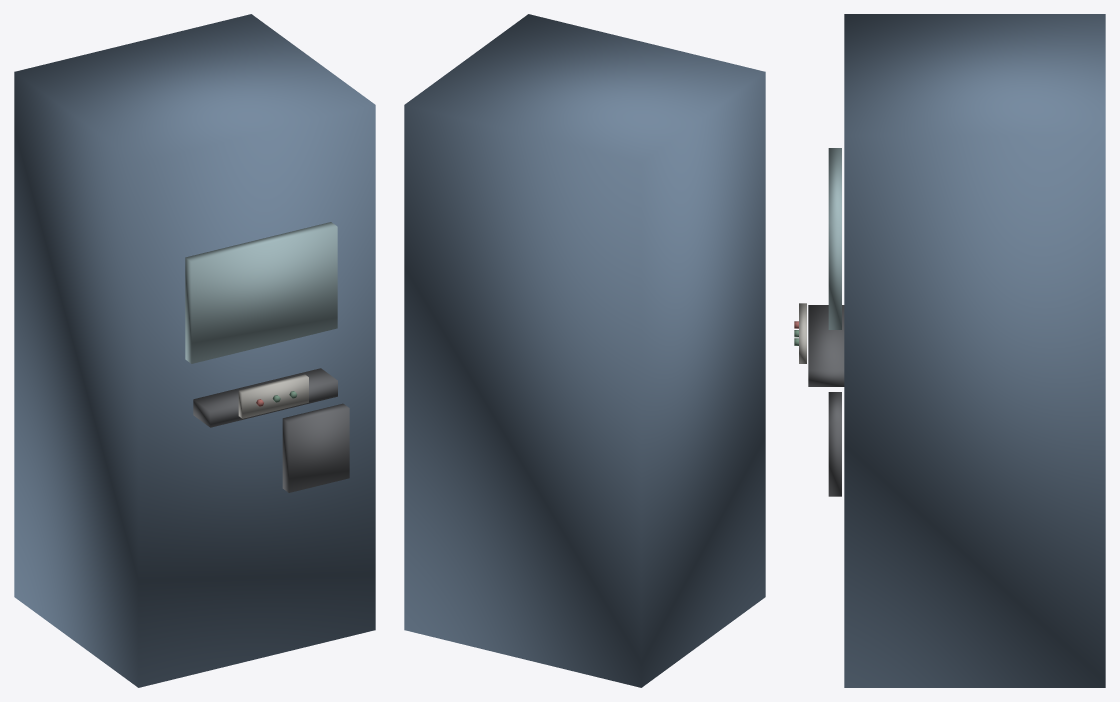
Rendered from atm__deep.glb.
3 renders of one model, left to right at view 1: azimuth 30°, elevation 25°; view 2: azimuth 150°, elevation 25°; view 3: azimuth 270°, elevation 25°, orthographic. The views are drawn at different scales.
Visible parts, largest first — view 1: world; view 2: world; view 3: world.
Part boxes in pixels (x1,y1,x2,y2): world: (14,14,375,687); world: (404,14,765,687); world: (794,14,1105,687).
Size of the model in its own units: 0.78 by 1.65 by 0.843.
